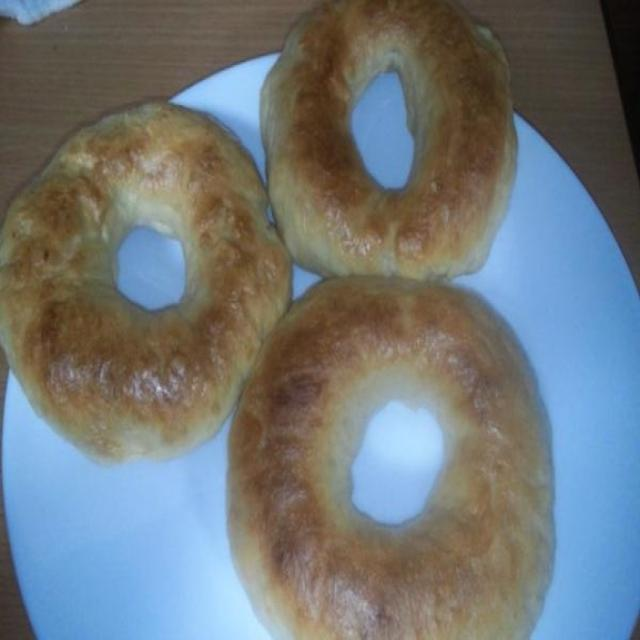面包点心: (6, 4, 621, 626)
